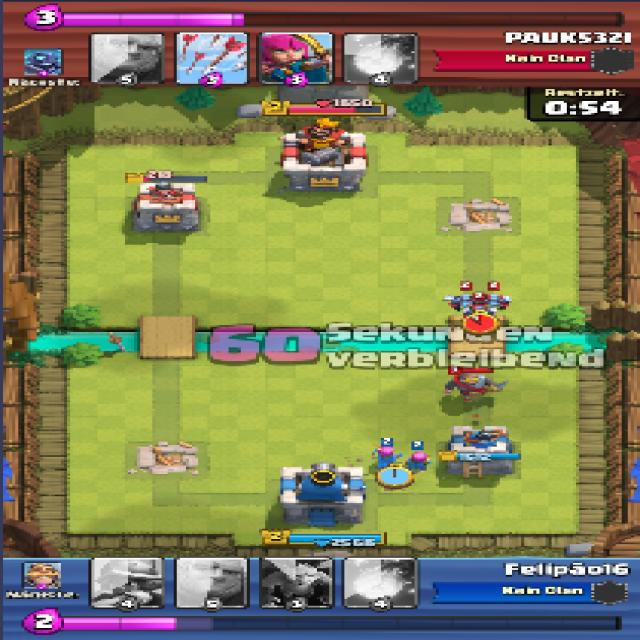Enemy-Archer: (370, 444, 401, 470), (404, 452, 434, 471)
Enemy-Knight: (440, 374, 508, 402)
Enemy-Minion: (465, 306, 494, 322), (446, 296, 476, 310), (484, 294, 510, 308)
